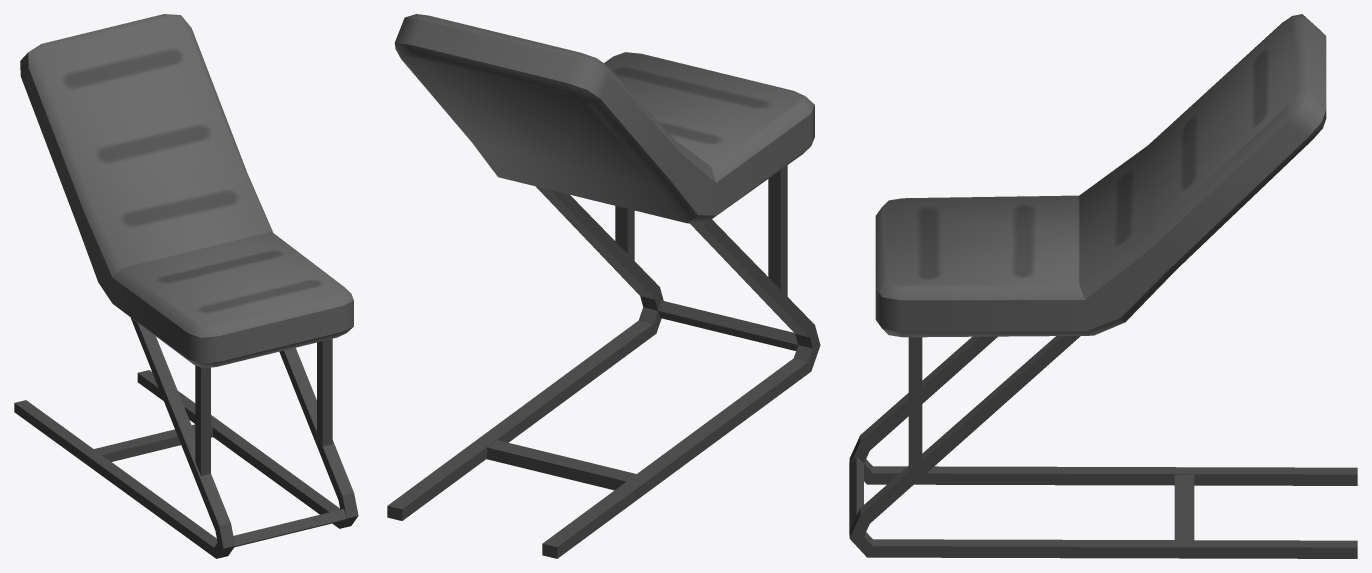
The model's file is TatSeat01.fbx.
The picture shows the model from 3 angles, left to right: view 1: azimuth 30°, elevation 25°; view 2: azimuth 150°, elevation 25°; view 3: azimuth 270°, elevation 25°; orthographic projection. The views are drawn at different scales.
Visible parts, largest first — view 1: Tatseat01; view 2: Tatseat01; view 3: Tatseat01.
Part boxes in pixels (left/top/right/bottom): Tatseat01: left=14, top=14, right=358, bottom=558; Tatseat01: left=387, top=14, right=820, bottom=558; Tatseat01: left=849, top=14, right=1357, bottom=558.
Bounding box in the file's own units: 54.68 × 122 × 122.
1 material, 1 textured.
